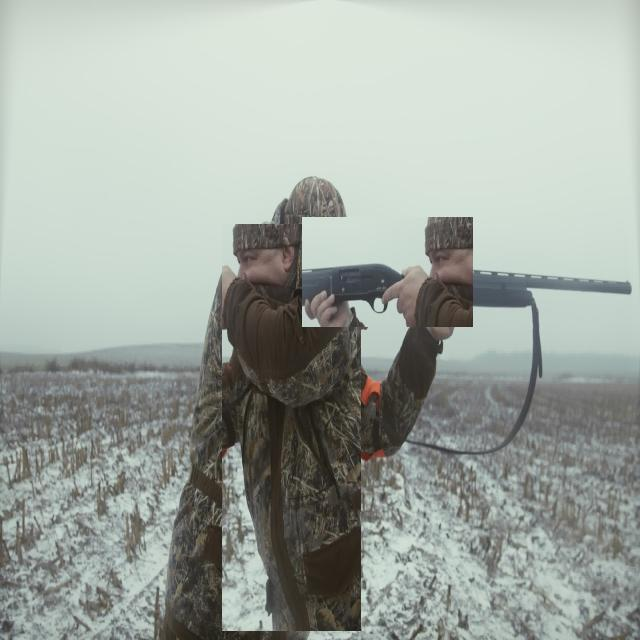poacher: (222, 224, 361, 631)
weapon: (302, 217, 473, 327)
